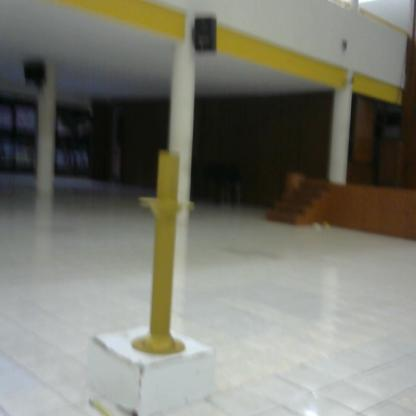pole: (130, 145, 200, 360)
